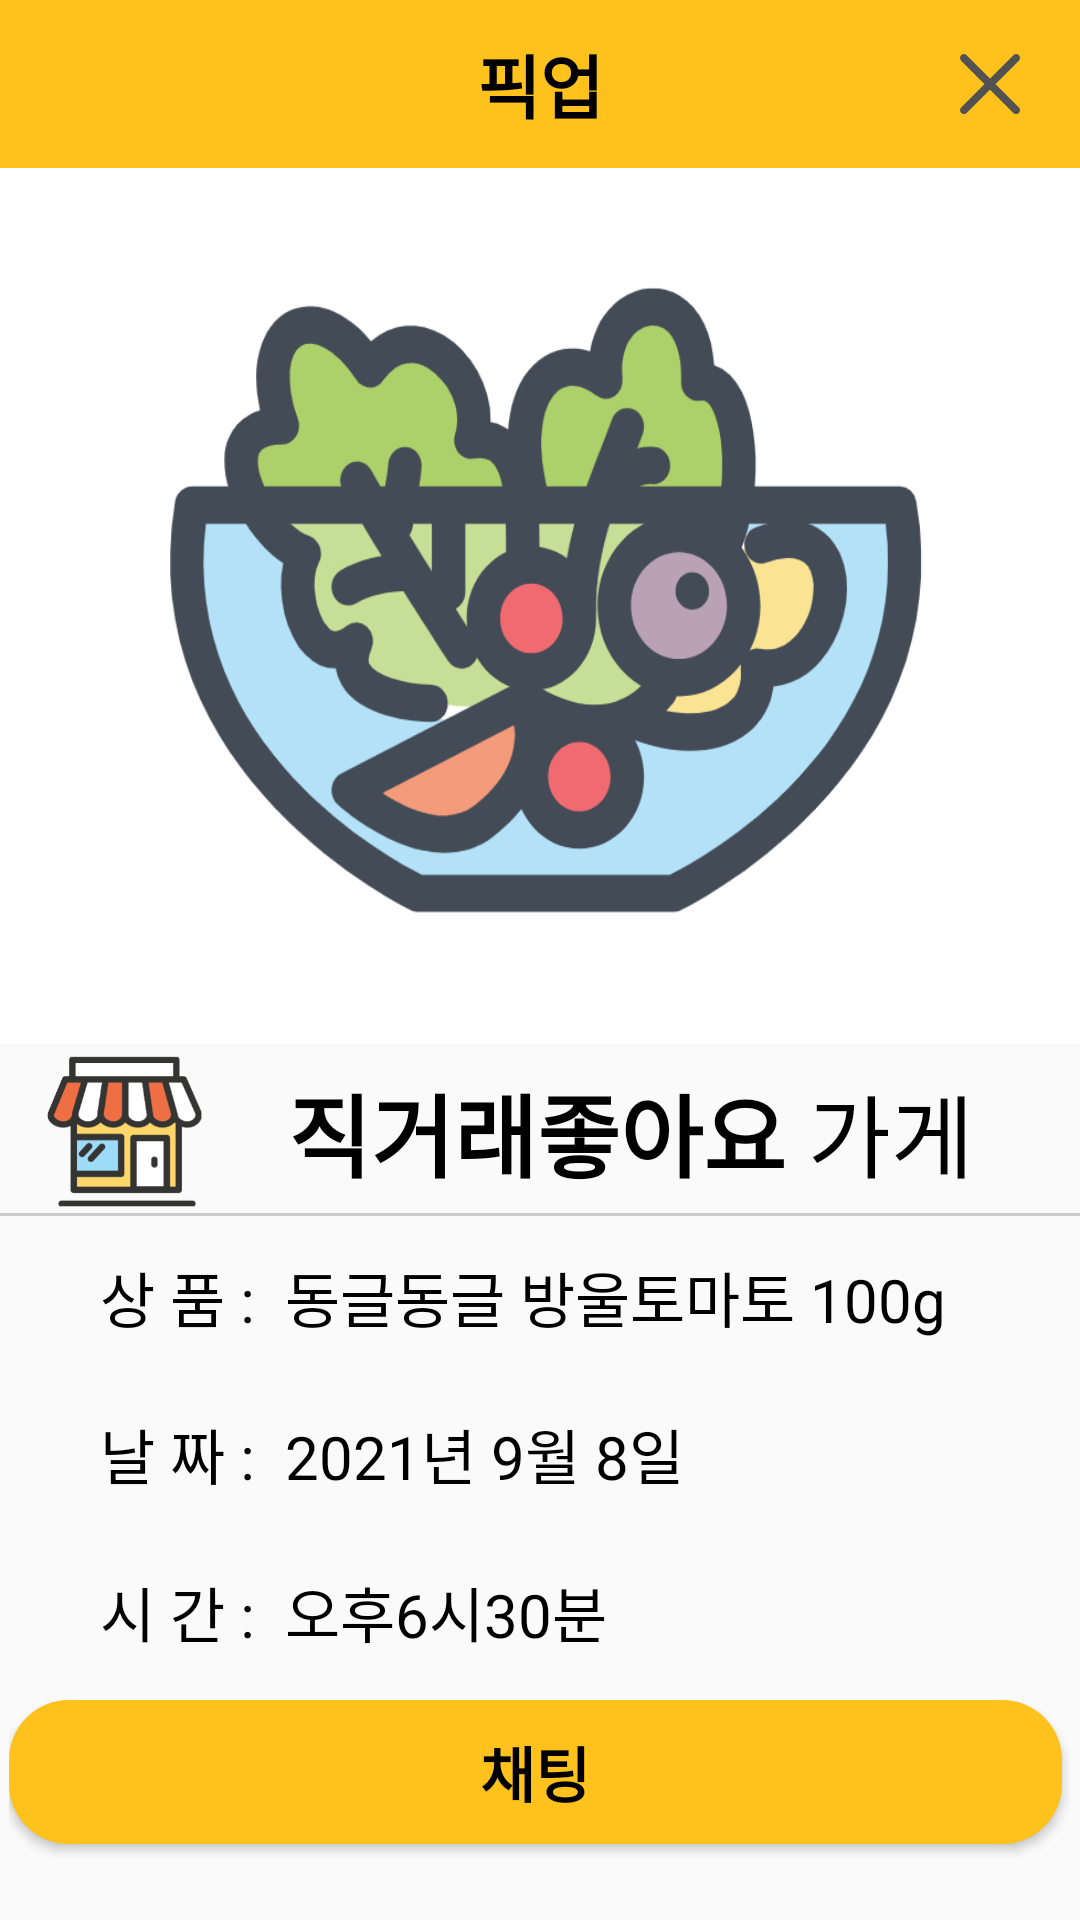

Icon bounding boxes for this 1080×1920 phone screenshot, format box(x1, y1, x2, y2):
close: box(960, 54, 1020, 114)
store: box(47, 1056, 202, 1207)
